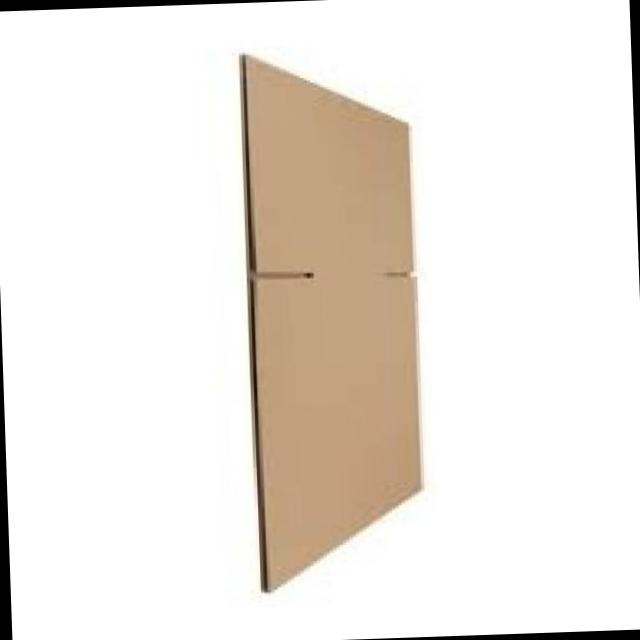cardboard paper: (242, 57, 422, 592)
